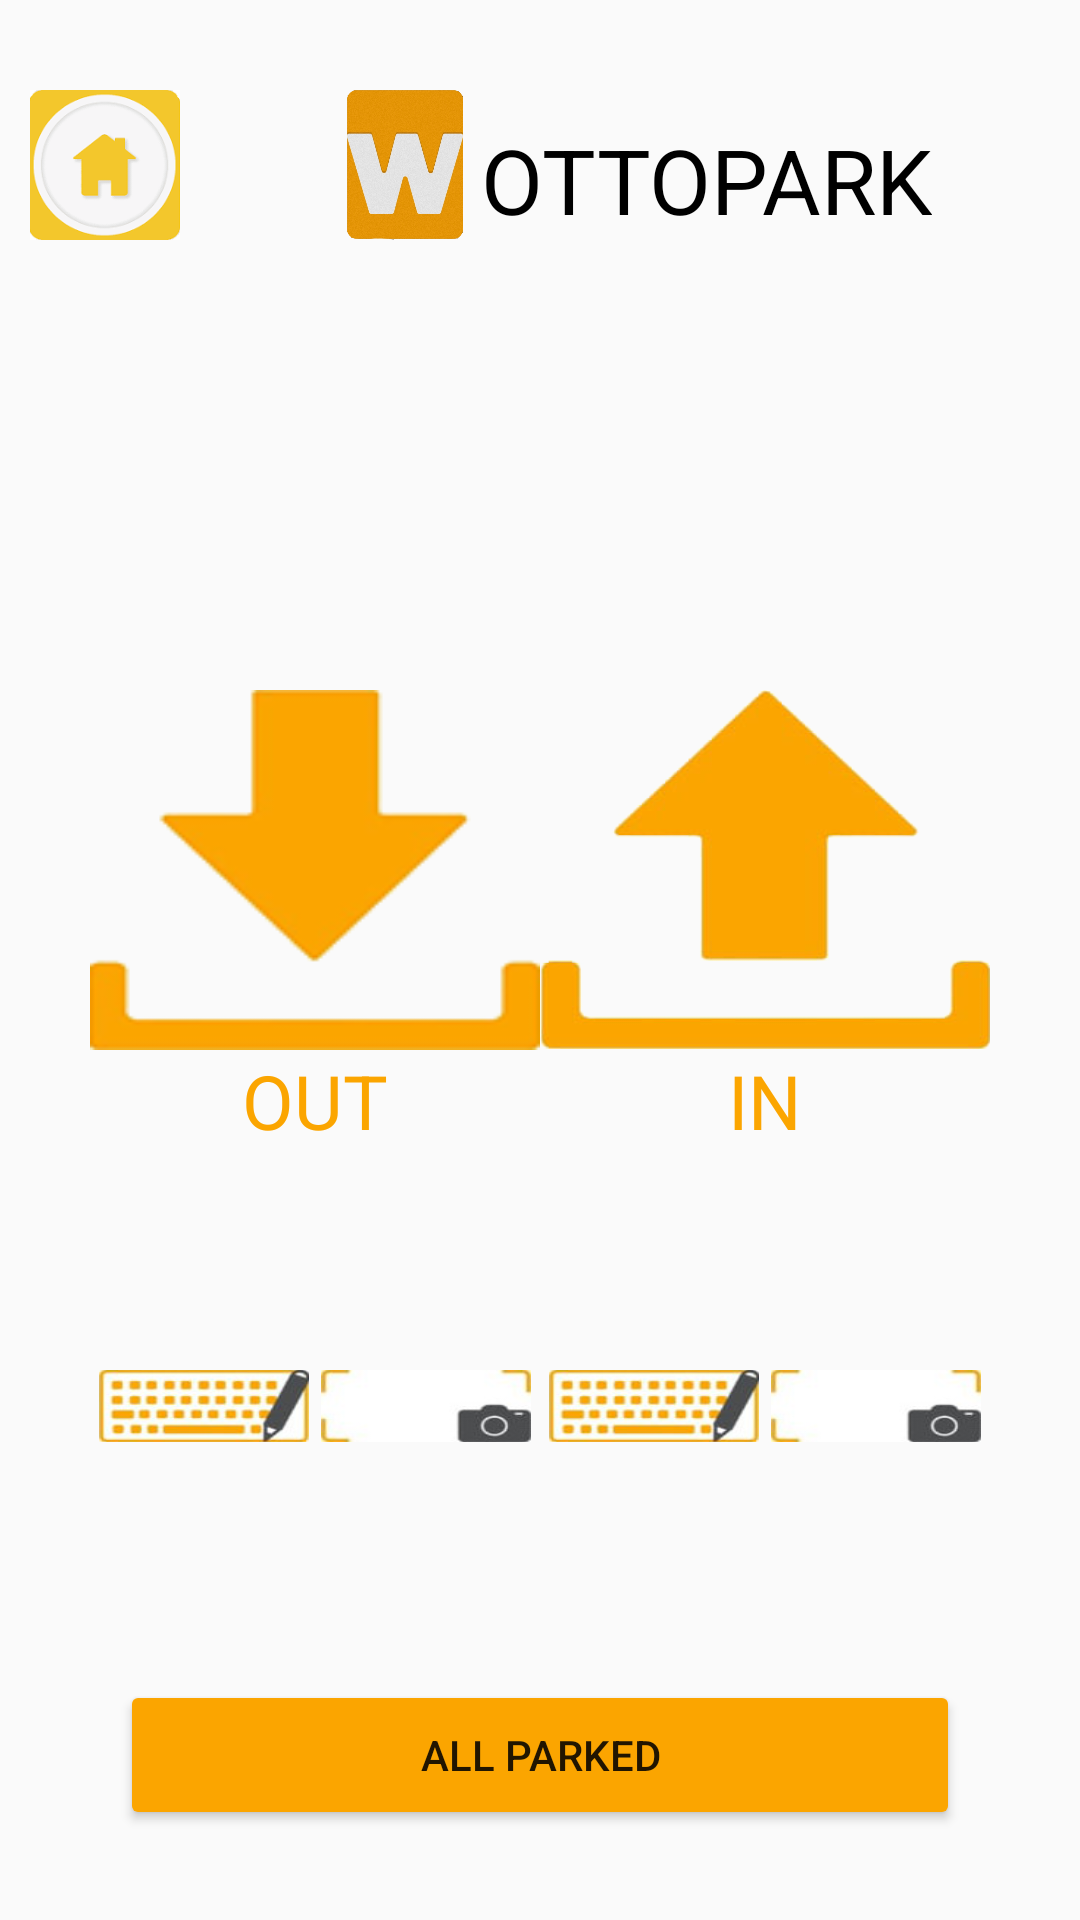

Locate icon controls on the screen. Image size 1080*1920, boxes as (x1, y1, x2, y2).
cam: (321, 1370, 531, 1442), (771, 1370, 981, 1442)
home: (30, 90, 180, 240)
